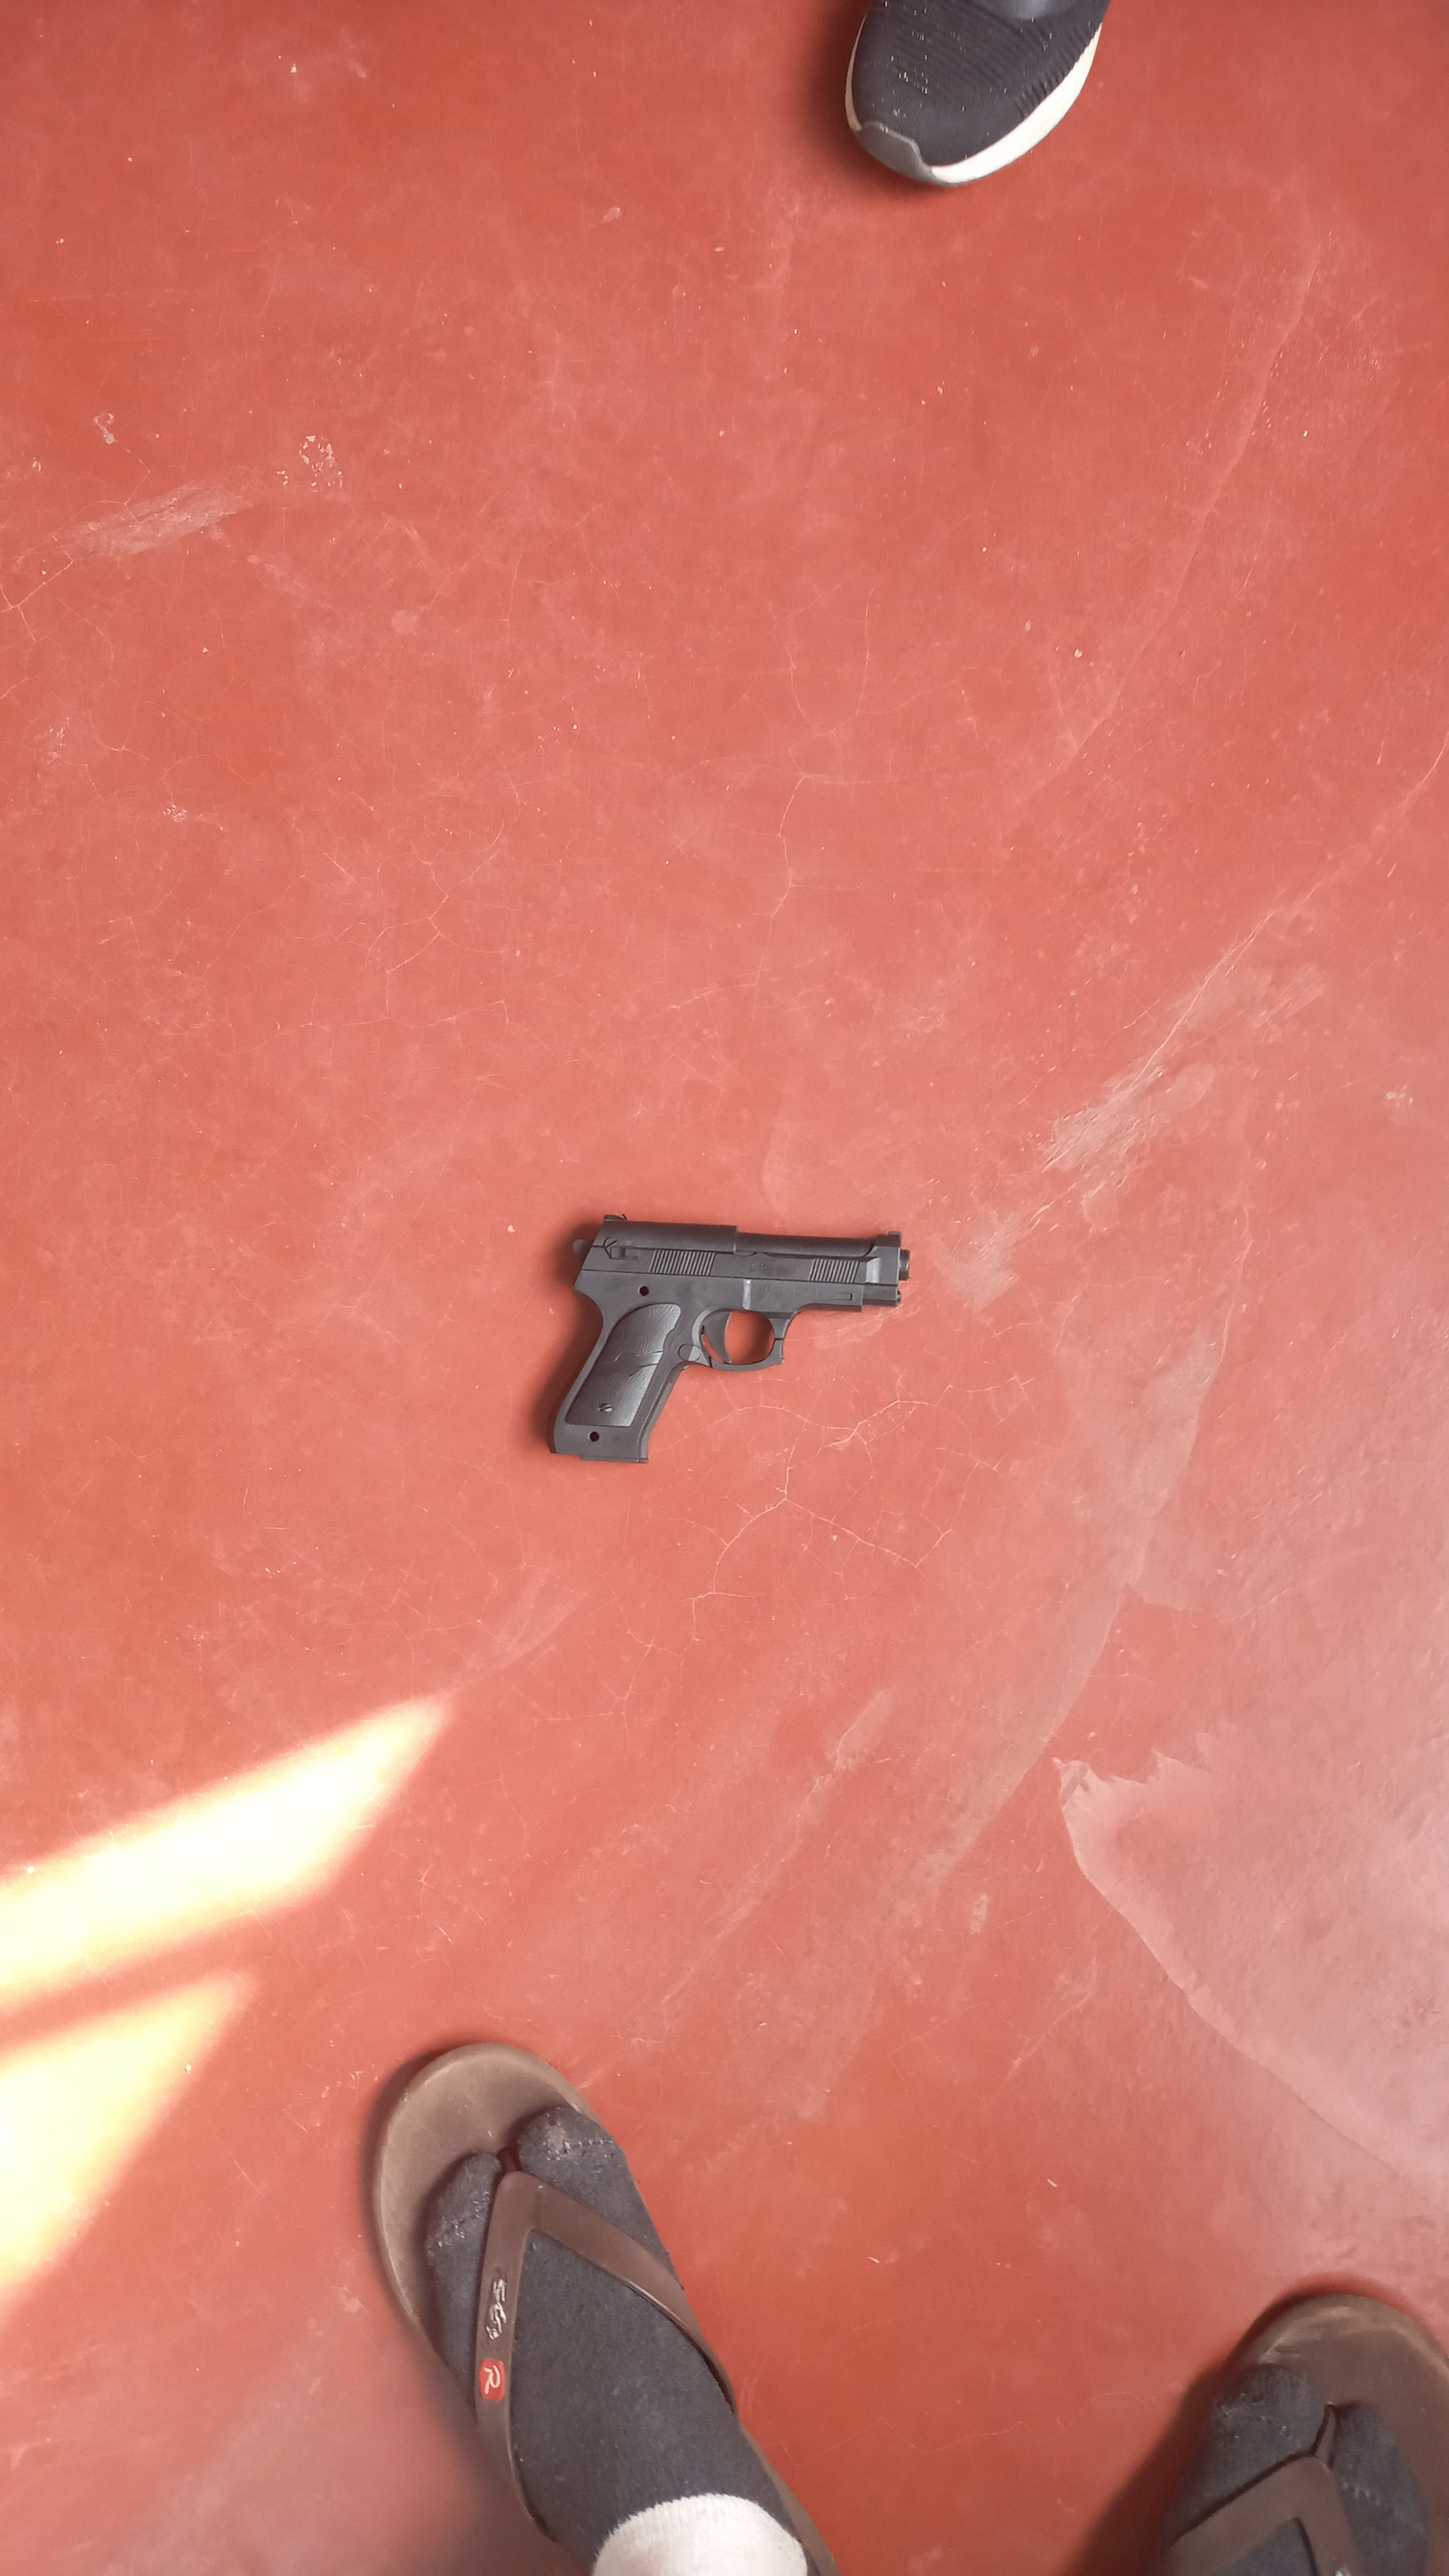Arma: (561, 1214, 927, 1378)
